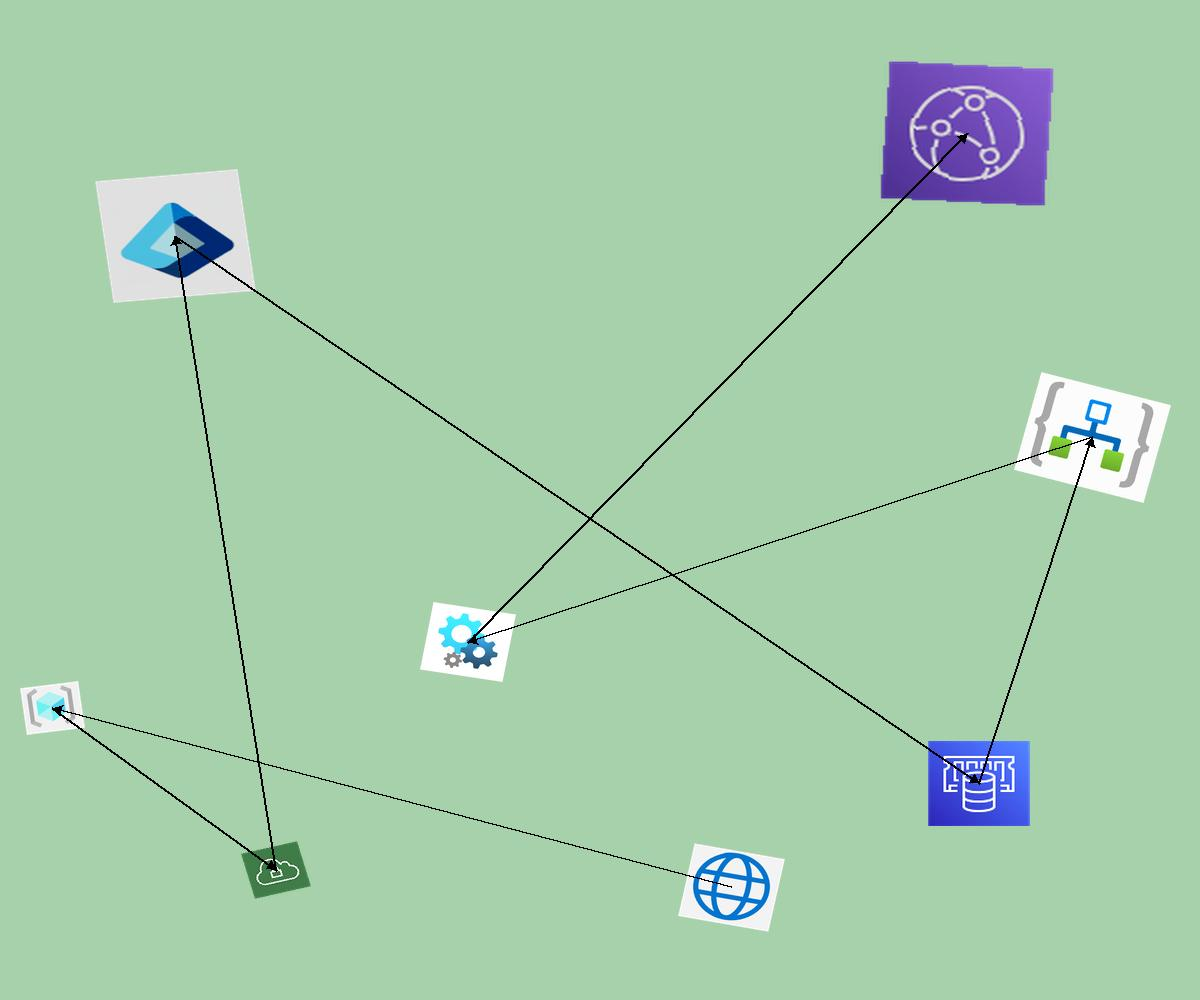AWS-CloudFront: (879, 60, 1055, 207)
AWS-ElastiCache: (927, 740, 1031, 827)
AWS-Private_vpc: (241, 841, 311, 899)
Azure_api: (420, 602, 516, 682)
Azure_http: (678, 843, 785, 932)
Azure_integration-204-Logic-Apps: (1014, 372, 1171, 503)
Azure_microsoft_entra: (95, 169, 256, 303)
Azure_resource_group: (20, 681, 85, 735)
